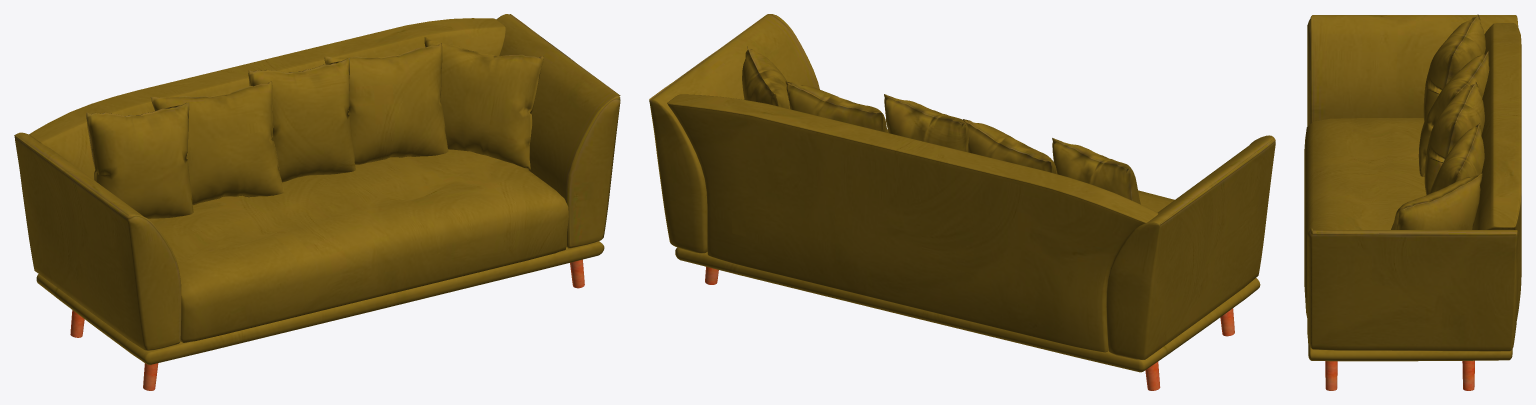
File: yellowthreeseater.glb
The picture shows the model from 3 angles, left to right: view 1: azimuth 30°, elevation 25°; view 2: azimuth 150°, elevation 25°; view 3: azimuth 270°, elevation 25°; orthographic projection. The views are drawn at different scales.
Parts seen in each view (by area): view 1: GLBsingle_seater; view 2: GLBsingle_seater; view 3: GLBsingle_seater.
Boxes of the visible parts, x1=… form: GLBsingle_seater: x1=14, y1=14, x2=620, y2=390; GLBsingle_seater: x1=649, y1=14, x2=1275, y2=390; GLBsingle_seater: x1=1304, y1=14, x2=1521, y2=390.
Size of the model in its own units: 2.14 by 0.8997 by 0.8948.
Materials: 1 (1 with a texture image).
